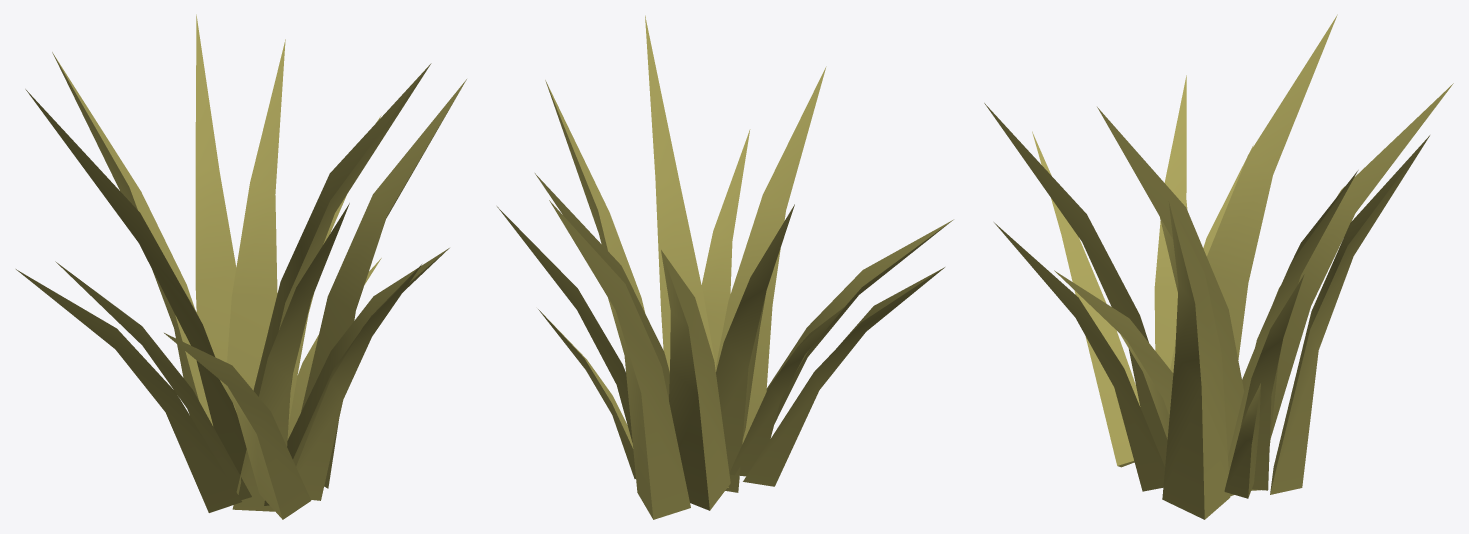
Rendered from grass.obj.
3 views of the same model, side by side, from view 1: azimuth 30°, elevation 25°; view 2: azimuth 150°, elevation 25°; view 3: azimuth 270°, elevation 25° (orthographic). The views are drawn at different scales.
Visible parts, largest first — view 1: GrassA; view 2: GrassA; view 3: GrassA.
Part boxes in pixels (bbox=[...]): GrassA: bbox=[16, 14, 466, 519]; GrassA: bbox=[497, 15, 953, 519]; GrassA: bbox=[984, 14, 1453, 519].
Size of the model in its own units: 0.8338 by 0.8085 by 0.7783.
